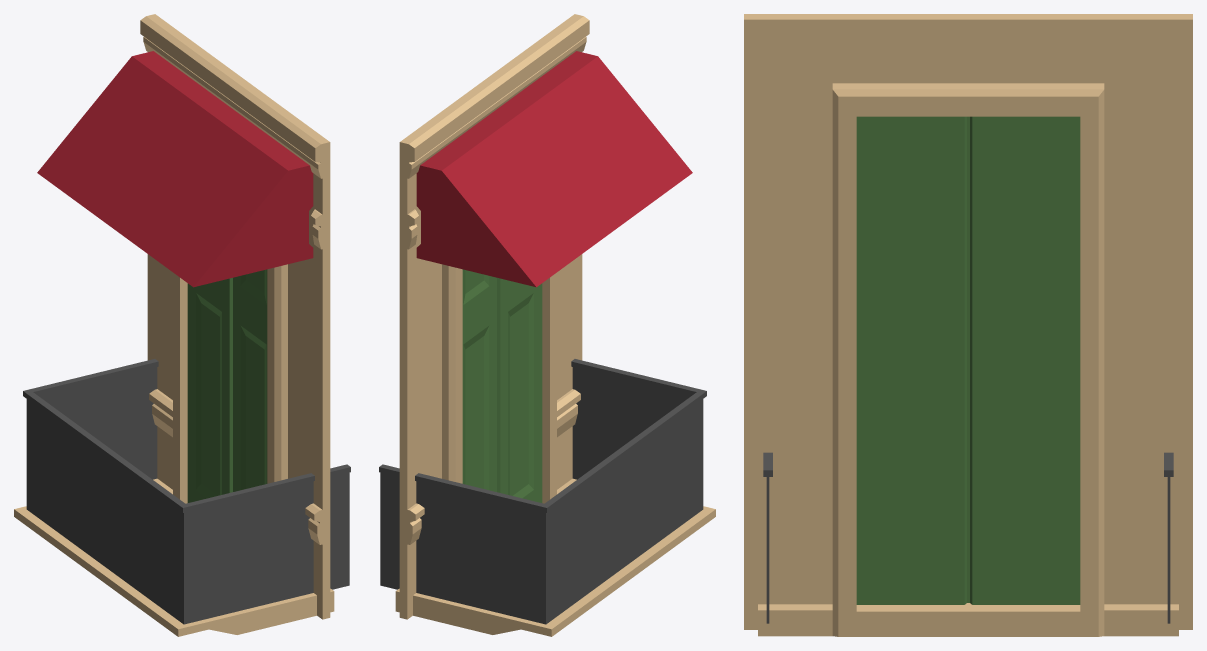
Rendered from 1_Balcony_1_B.fbx.
3 views of the same model, side by side, from view 1: azimuth 30°, elevation 25°; view 2: azimuth 150°, elevation 25°; view 3: azimuth 270°, elevation 25° (orthographic). The views are drawn at different scales.
Visible parts, largest first — view 1: Balcony_1_B; view 2: Balcony_1_B; view 3: Balcony_1_B.
Part boxes in pixels (x1,y1,x2,y2): Balcony_1_B: [14, 14, 350, 636]; Balcony_1_B: [379, 14, 715, 636]; Balcony_1_B: [744, 14, 1192, 636].
Bounding box in the file's own units: 115 × 200 × 300.
